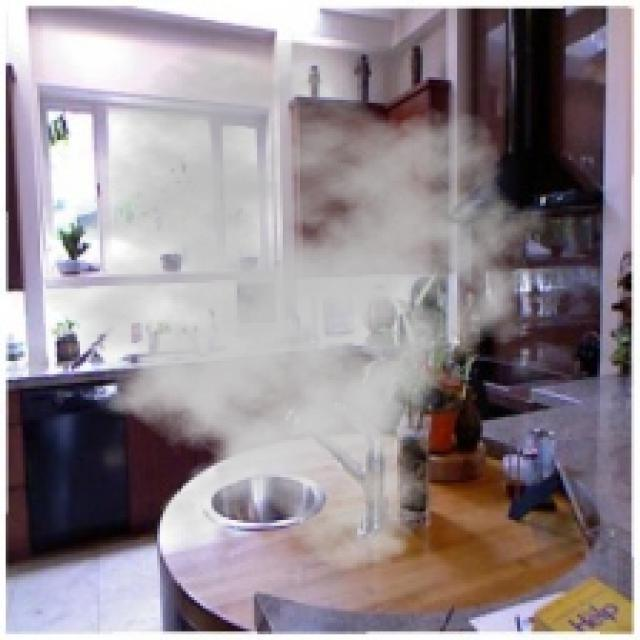smoke: (11, 37, 560, 574)
